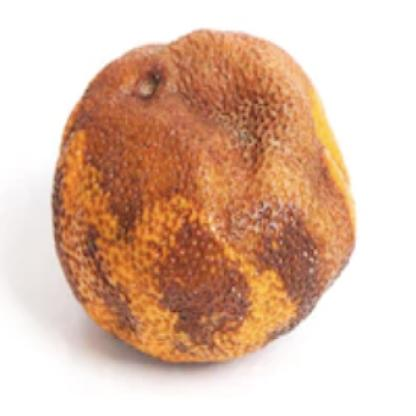rotten: (54, 30, 357, 367)
